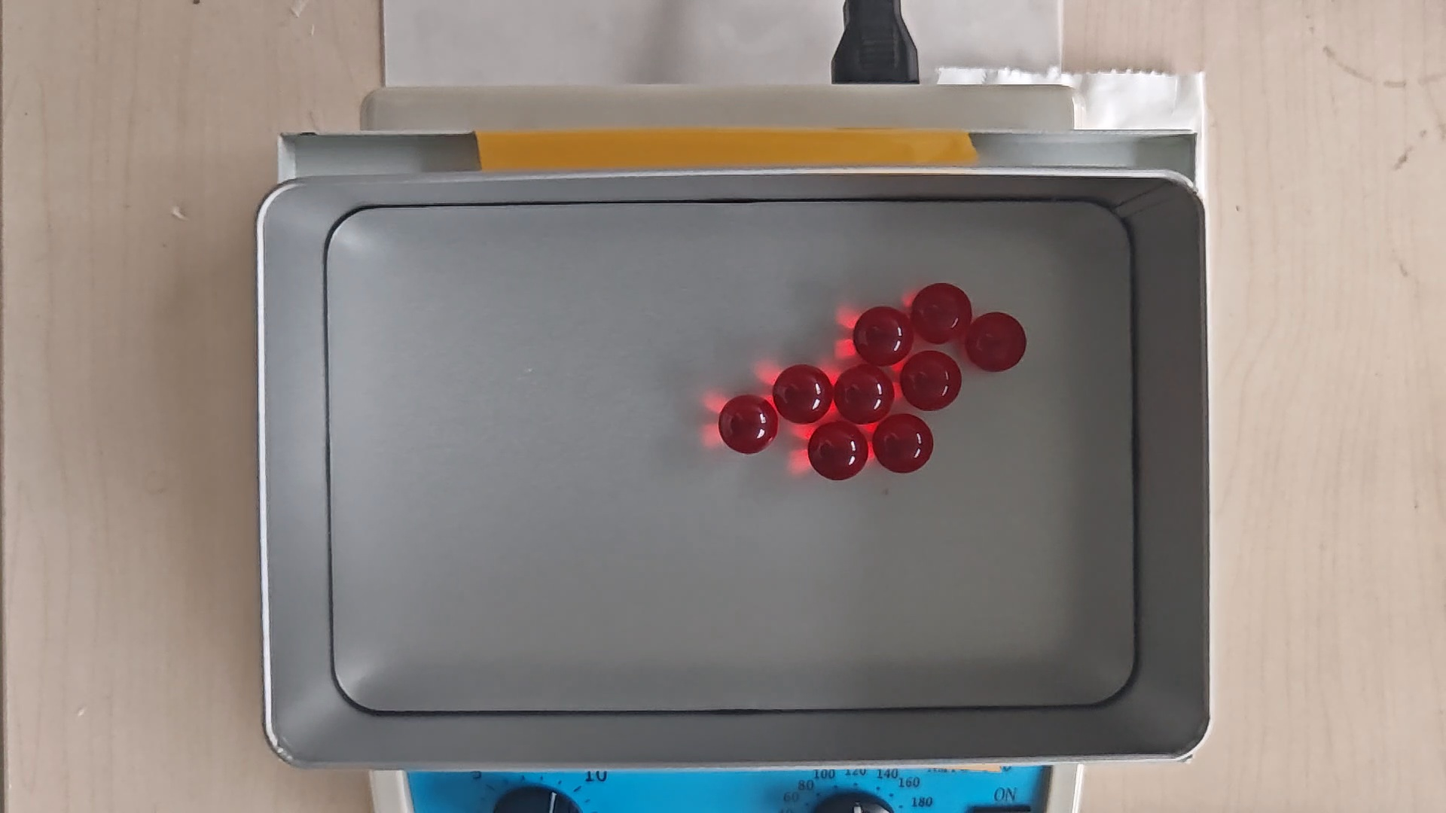ball: (911, 282, 972, 345), (966, 312, 1027, 374), (808, 422, 869, 483), (718, 393, 778, 454), (874, 414, 934, 475), (902, 351, 960, 411), (854, 306, 912, 366), (774, 364, 832, 424), (836, 365, 895, 423)
container: (328, 200, 1135, 711)
